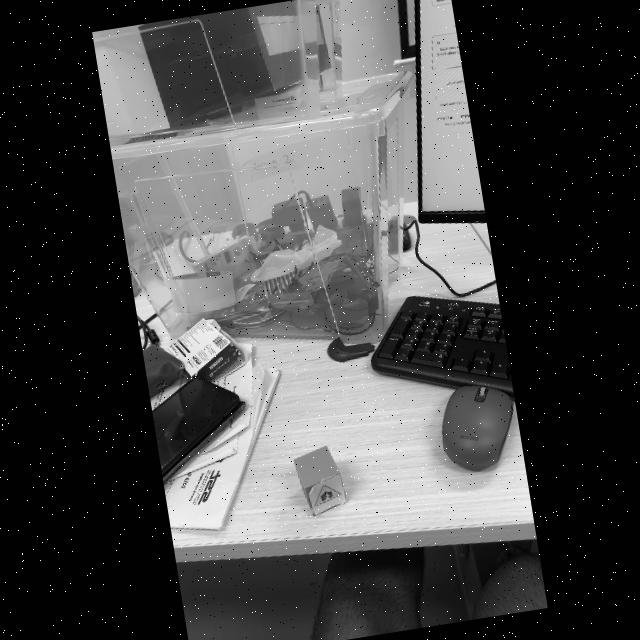Earthquake: (315, 485, 341, 507)
